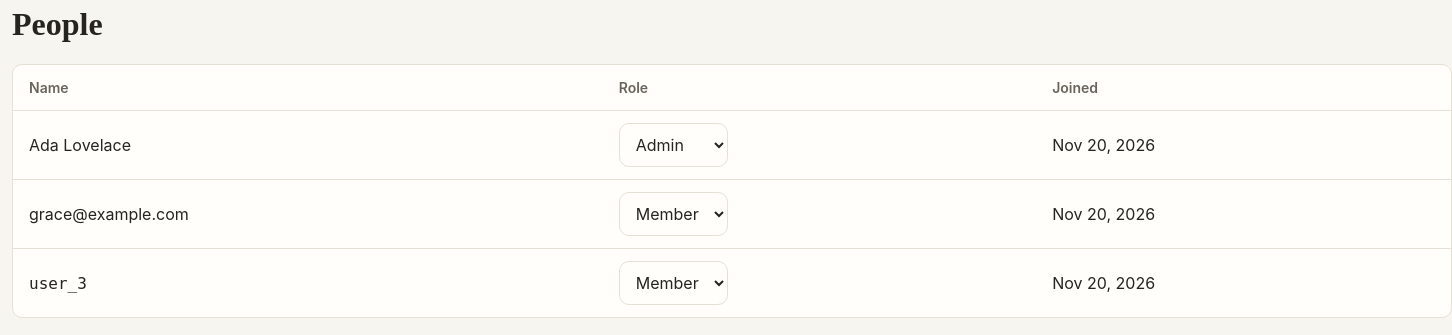
Test: PeoplePage › on a 404, says the person left, asks again for the list, and the message outlasts their row
Select "Lead" in the dropdown named "Role for grace@example.com" at [673, 214], box top-left (619, 192), bottom-right (728, 236)
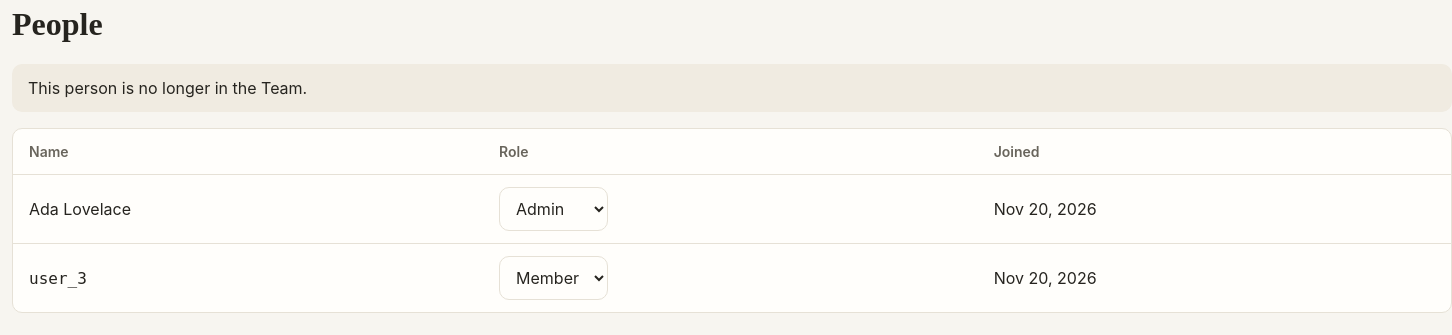
Now the text "grace@example.com" is gone
Now the message reads "This person is no longer in the Team.", box top-left (28, 78), bottom-right (307, 98)
